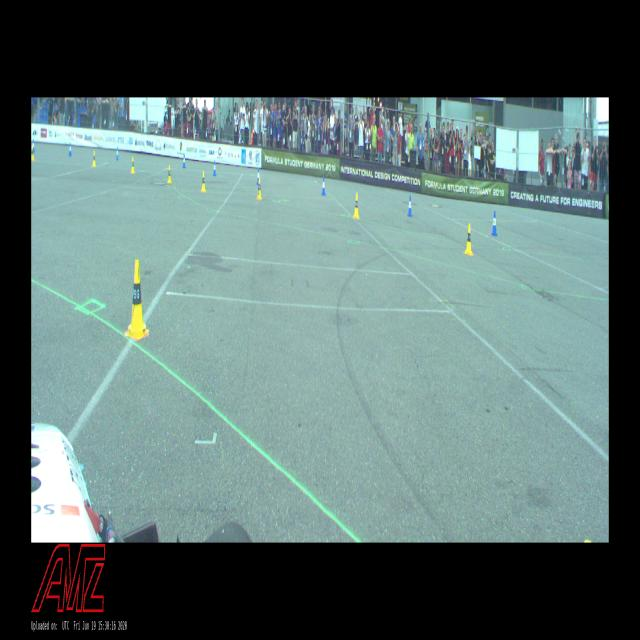blue_cone: (492, 211, 498, 236), (407, 195, 412, 217), (321, 177, 326, 196), (256, 168, 260, 184), (212, 161, 216, 176), (68, 142, 72, 156), (182, 154, 186, 168), (116, 146, 119, 160), (32, 139, 35, 152)
yellow_cone: (125, 260, 150, 340), (464, 223, 473, 256), (200, 170, 207, 192), (354, 192, 359, 219), (257, 177, 262, 200), (130, 157, 135, 173), (92, 151, 97, 167), (168, 165, 172, 184), (31, 145, 35, 161)
